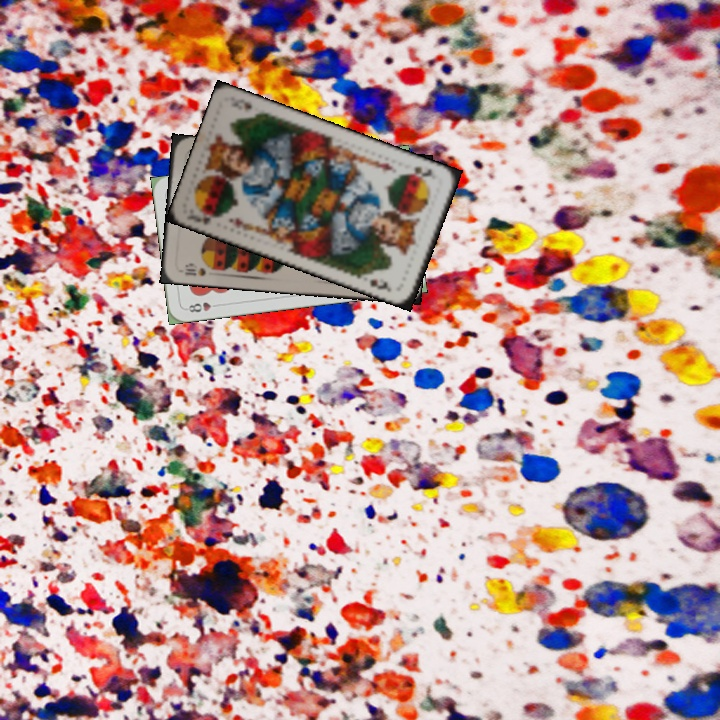H8: (182, 298, 222, 315)
S10: (181, 260, 208, 279)
SK: (403, 162, 439, 183), (193, 209, 223, 227)
